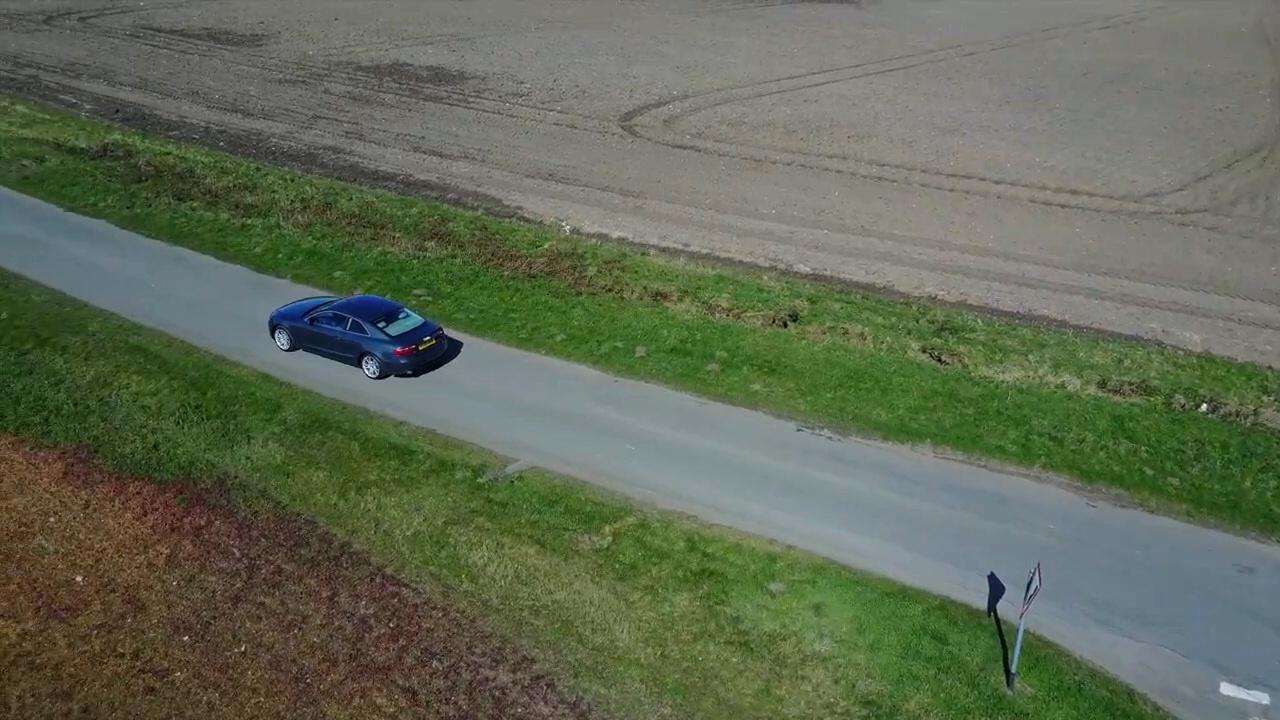araba: (266, 288, 450, 384)
